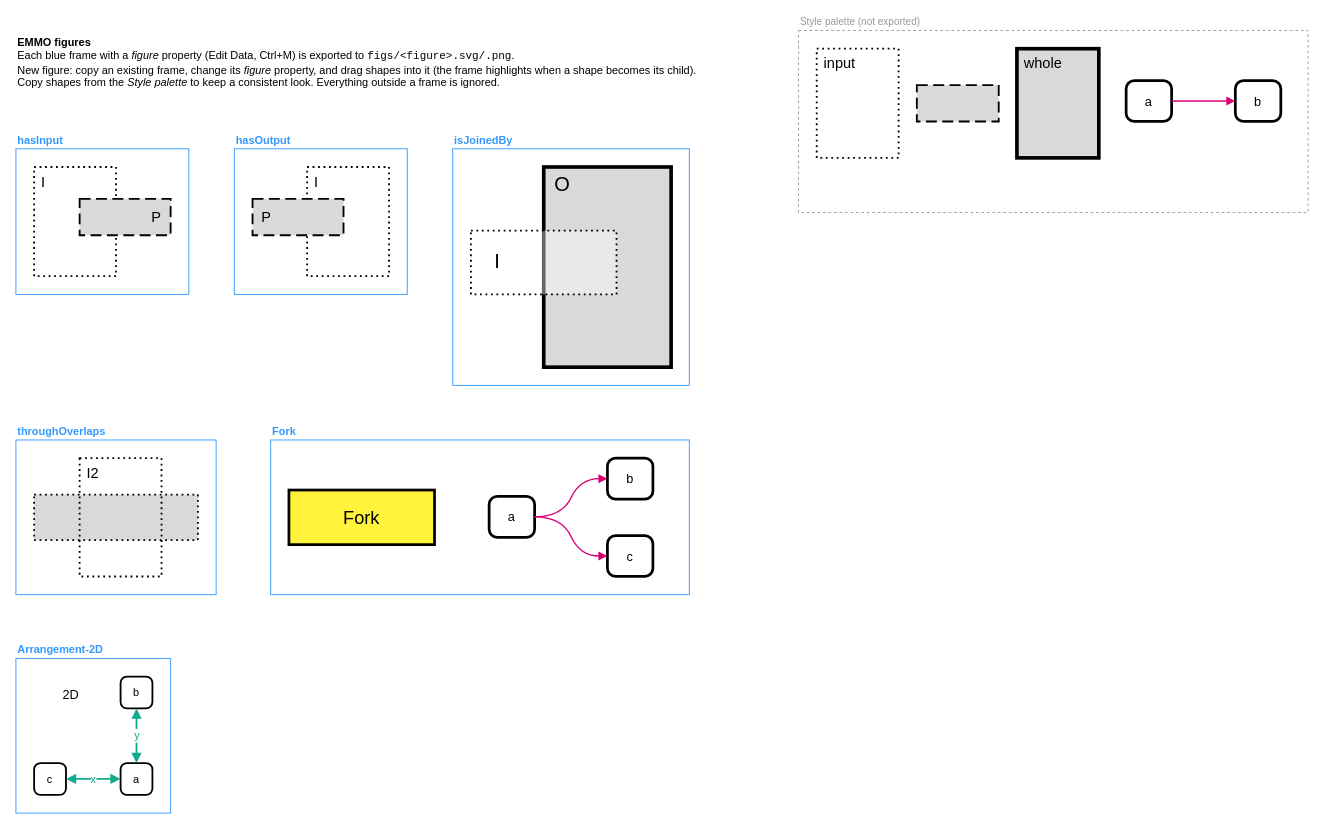
Image size: 1324x829. Some labels were removed from this diagram. Each missing label, with the centre of its shape:
"I1" goes at pixel 115 517.
"part" goes at pixel 957 103.
